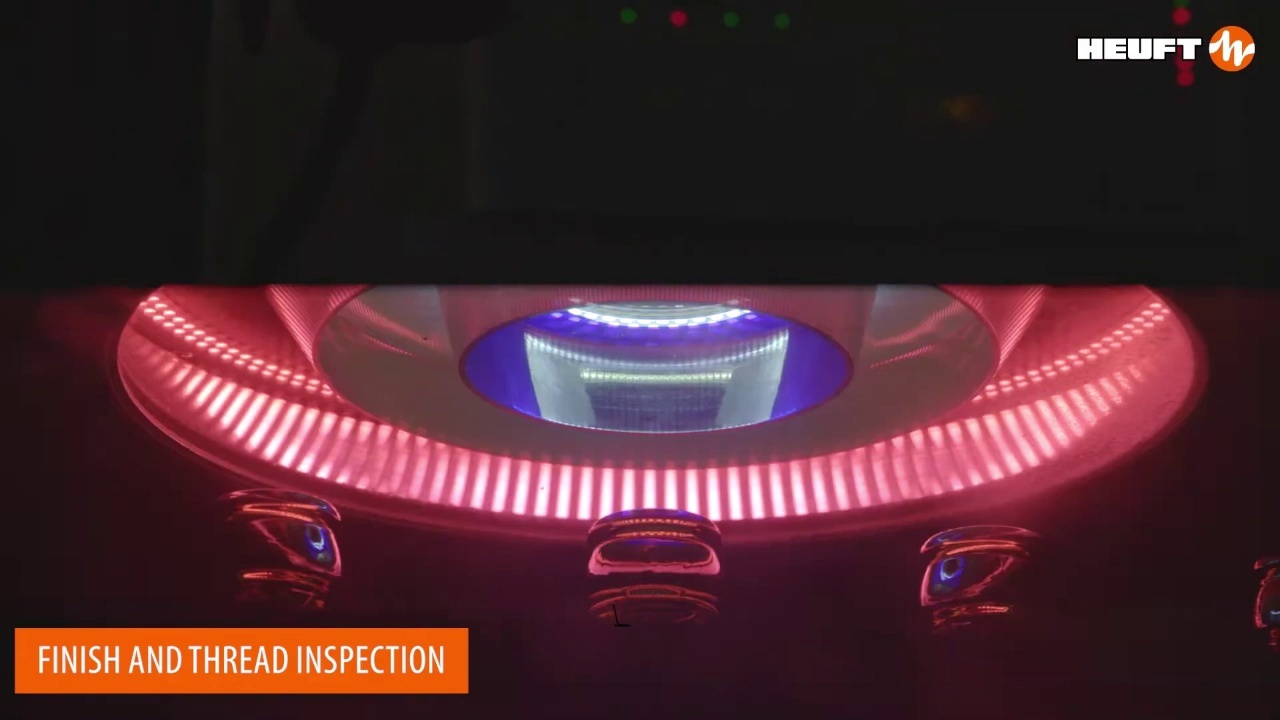bottle: (586, 508, 722, 626)
crack: (613, 604, 630, 625)
